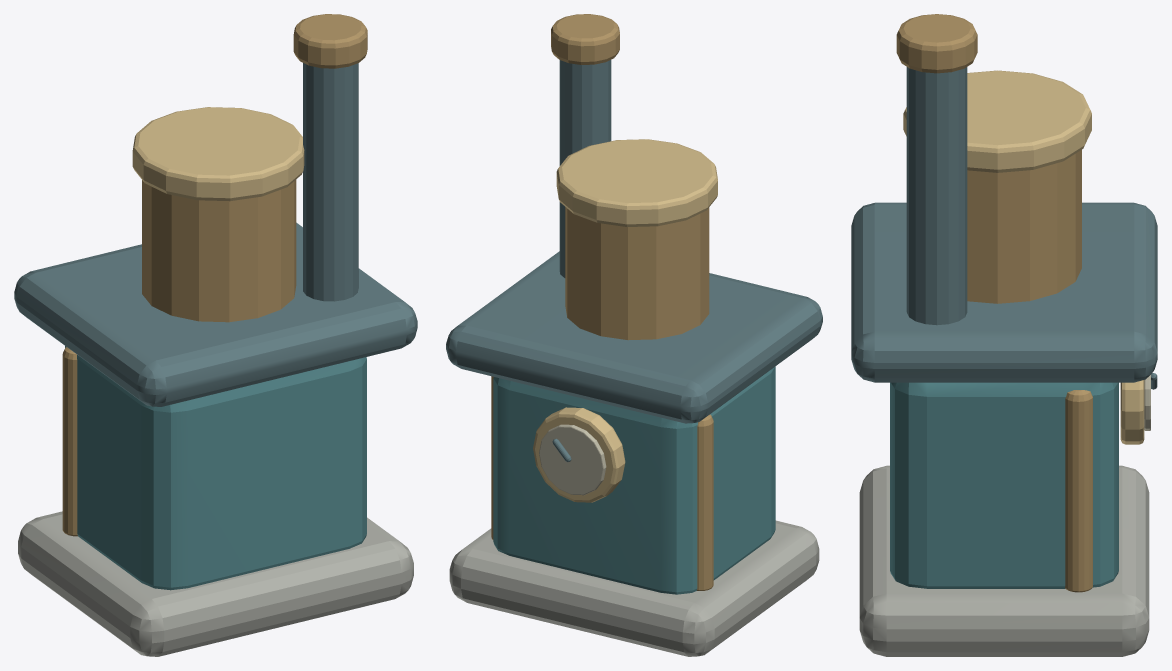
Rendered from workshop.glb.
3 views of the same model, side by side, from view 1: azimuth 30°, elevation 25°; view 2: azimuth 150°, elevation 25°; view 3: azimuth 270°, elevation 25° (orthographic). The views are drawn at different scales.
Parts seen in each view (by area): view 1: Surface_Enamel, Surface_Iron, Surface_WorkshopStone, Surface_Brass, Surface_PolishedRim; view 2: Surface_Enamel, Surface_Iron, Surface_Brass, Surface_WorkshopStone, Surface_PolishedRim, Surface_Ivory; view 3: Surface_Iron, Surface_Enamel, Surface_WorkshopStone, Surface_Brass, Surface_PolishedRim.
Part boxes in pixels (box(x1,y1,x2,y2)): Surface_Enamel: box(65, 346, 366, 590); Surface_Iron: box(14, 63, 417, 406); Surface_WorkshopStone: box(18, 511, 413, 656); Surface_Brass: box(62, 14, 367, 536); Surface_PolishedRim: box(132, 107, 304, 201); Surface_Enamel: box(493, 366, 775, 594); Surface_Iron: box(446, 60, 822, 462); Surface_Brass: box(491, 14, 713, 590); Surface_WorkshopStone: box(449, 520, 819, 656); Surface_PolishedRim: box(533, 139, 717, 502); Surface_Ivory: box(539, 424, 606, 495); Surface_Iron: box(851, 67, 1157, 389); Surface_Enamel: box(890, 382, 1118, 588); Surface_WorkshopStone: box(859, 465, 1149, 656); Surface_Brass: box(896, 14, 1092, 592); Surface_PolishedRim: box(903, 70, 1144, 444).
Size of the model in its own units: 1.04 by 1.99 by 0.91.
